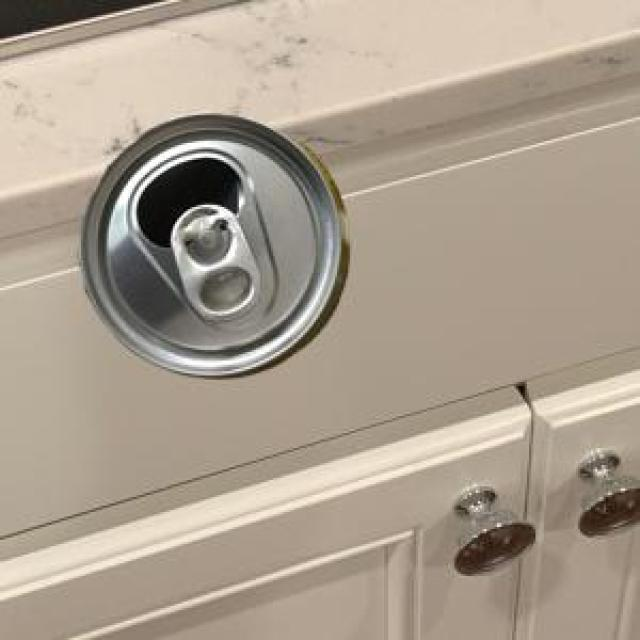Can: (76, 110, 345, 374)
